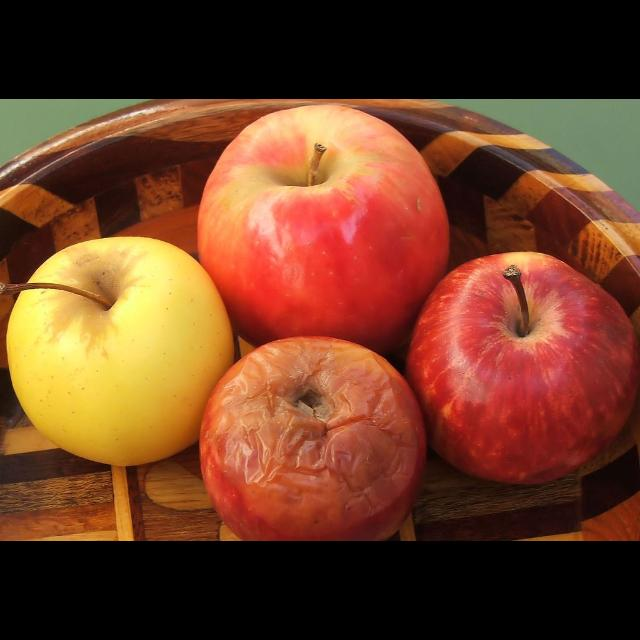Apel Segar: (170, 99, 436, 331), (15, 234, 221, 438)
Apel Tidak Segar: (160, 336, 460, 542), (410, 242, 640, 508)
